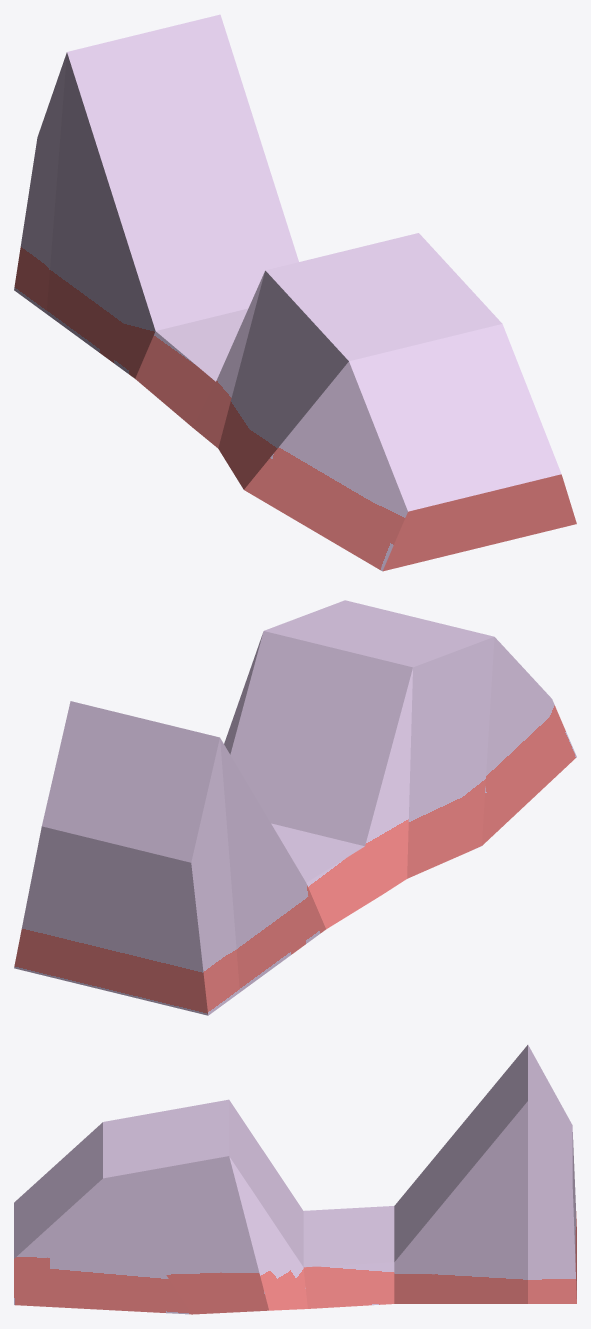
File: Kart.gltf
3 views of the same model, one above another, from view 1: azimuth 30°, elevation 25°; view 2: azimuth 150°, elevation 25°; view 3: azimuth 270°, elevation 25° (orthographic). The views are drawn at different scales.
Parts seen in each view (by area): view 1: mesh; view 2: mesh; view 3: mesh.
Part boxes in pixels (x1,y1,x2,y2): mesh: [14, 14, 576, 571]; mesh: [14, 600, 576, 1015]; mesh: [14, 1045, 576, 1314].
Bounding box in the file's own units: 0.0734 × 0.0776 × 0.1976.
1 material, 1 textured.
